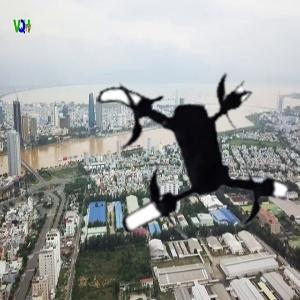drone: (74, 52, 291, 269)
